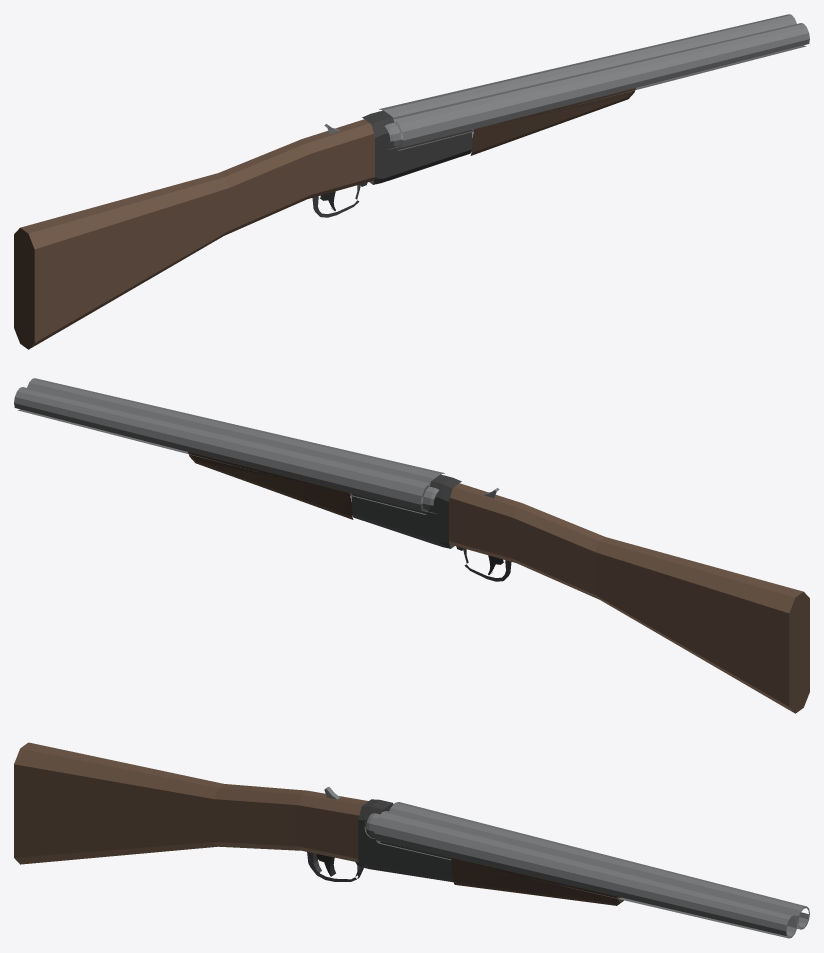
The model's file is dwururka-Dr2nOc45.glb.
3 renders of one model, top to bottom at view 1: azimuth 30°, elevation 25°; view 2: azimuth 150°, elevation 25°; view 3: azimuth 330°, elevation 25°, orthographic.
Parts seen in each view (by area): view 1: Shotgun_SawedOff; view 2: Shotgun_SawedOff; view 3: Shotgun_SawedOff.
Part boxes in pixels (<box>): Shotgun_SawedOff: <box>14,14,809,349</box>; Shotgun_SawedOff: <box>14,378,809,713</box>; Shotgun_SawedOff: <box>14,742,809,938</box>.
Bounding box in the file's own units: 6.49 × 1.18 × 0.4225.
